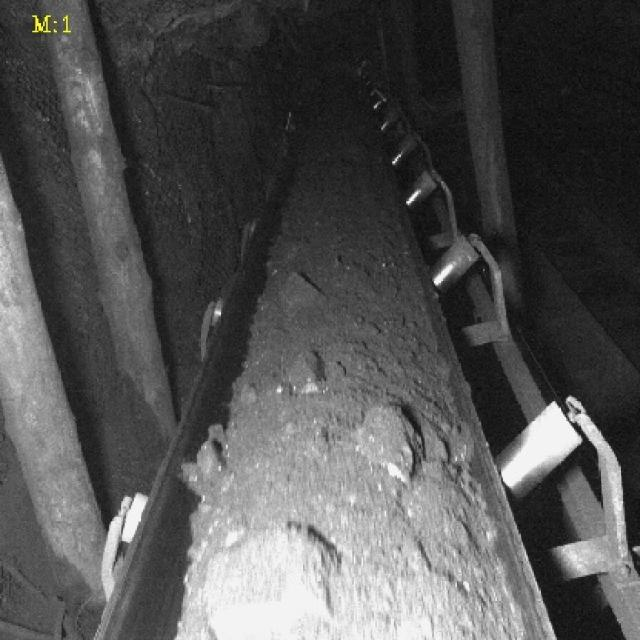large_sized_coal: (203, 532, 337, 637), (351, 403, 422, 483), (180, 434, 234, 497), (291, 352, 337, 397), (278, 271, 328, 309)
